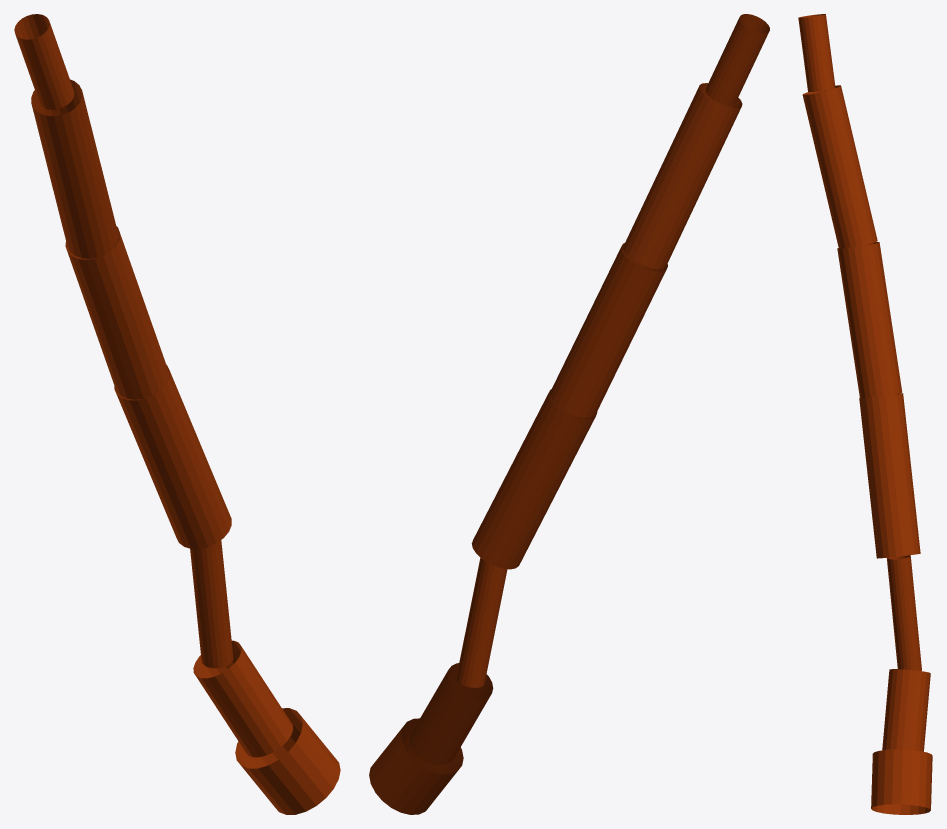
Rendered from tree_0109.obj.
3 renders of one model, left to right at view 1: azimuth 30°, elevation 25°; view 2: azimuth 150°, elevation 25°; view 3: azimuth 270°, elevation 25°, orthographic. The views are drawn at different scales.
Visible parts, largest first — view 1: groupWood; view 2: groupWood; view 3: groupWood.
Boxes of the visible parts, x1,y1,x2,y2 form: groupWood: (14,14,340,814); groupWood: (369,14,769,814); groupWood: (798,14,932,814).
Bounding box in the file's own units: 0.3154 × 0.7289 × 0.1285.
